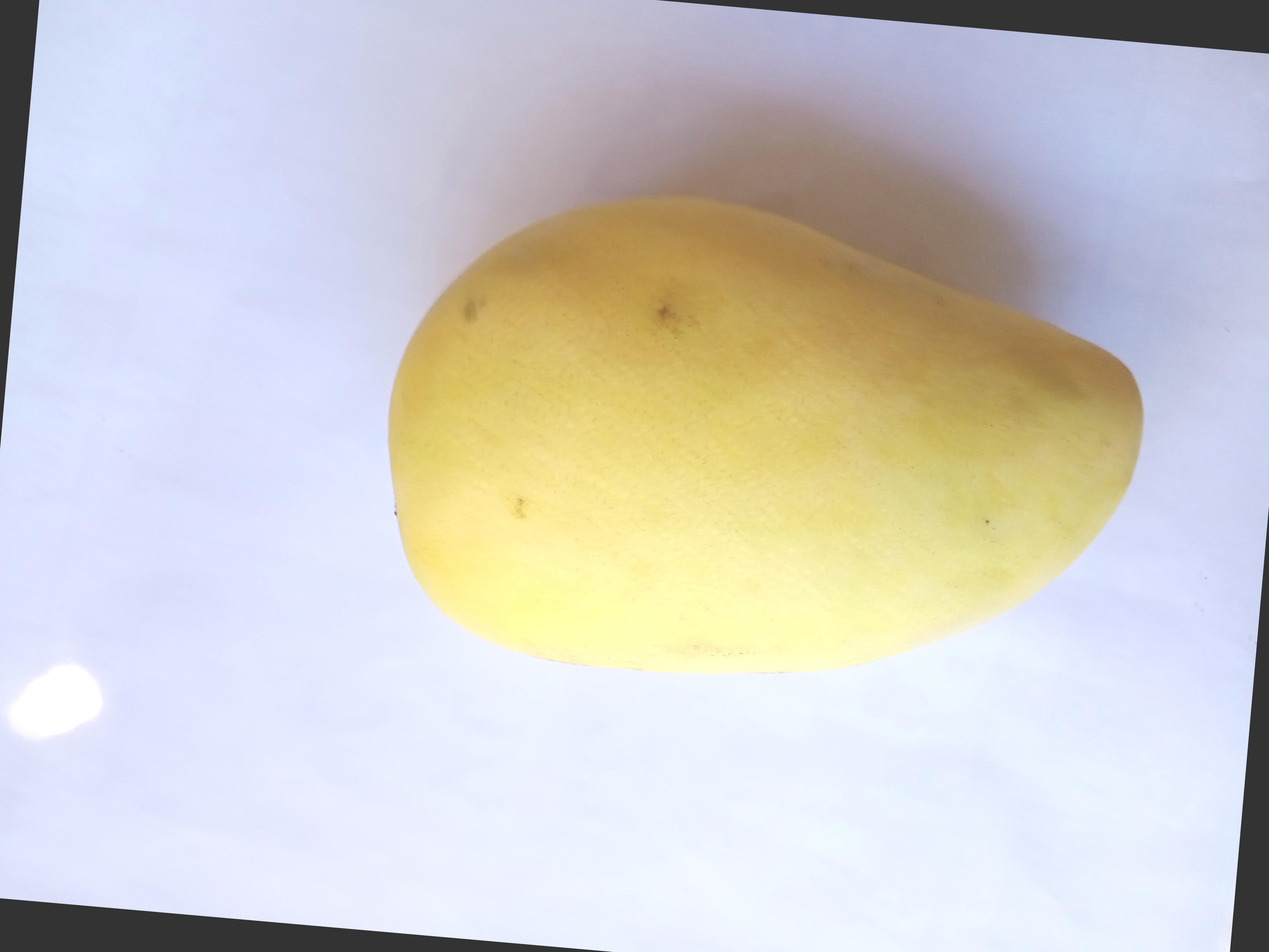Mango Ripe: (348, 82, 1258, 677)
